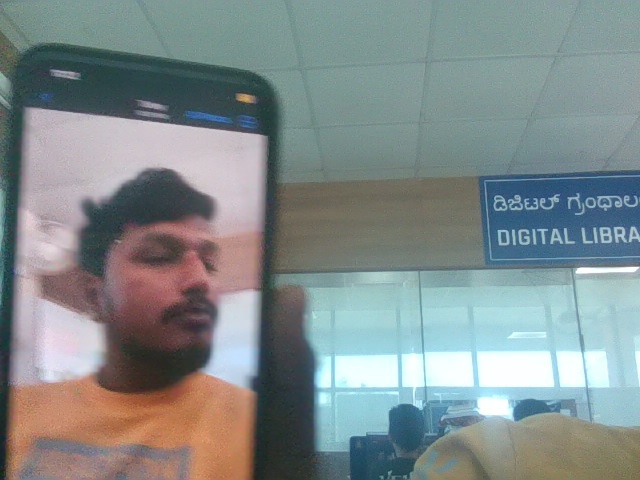fake: (84, 131, 260, 380)
